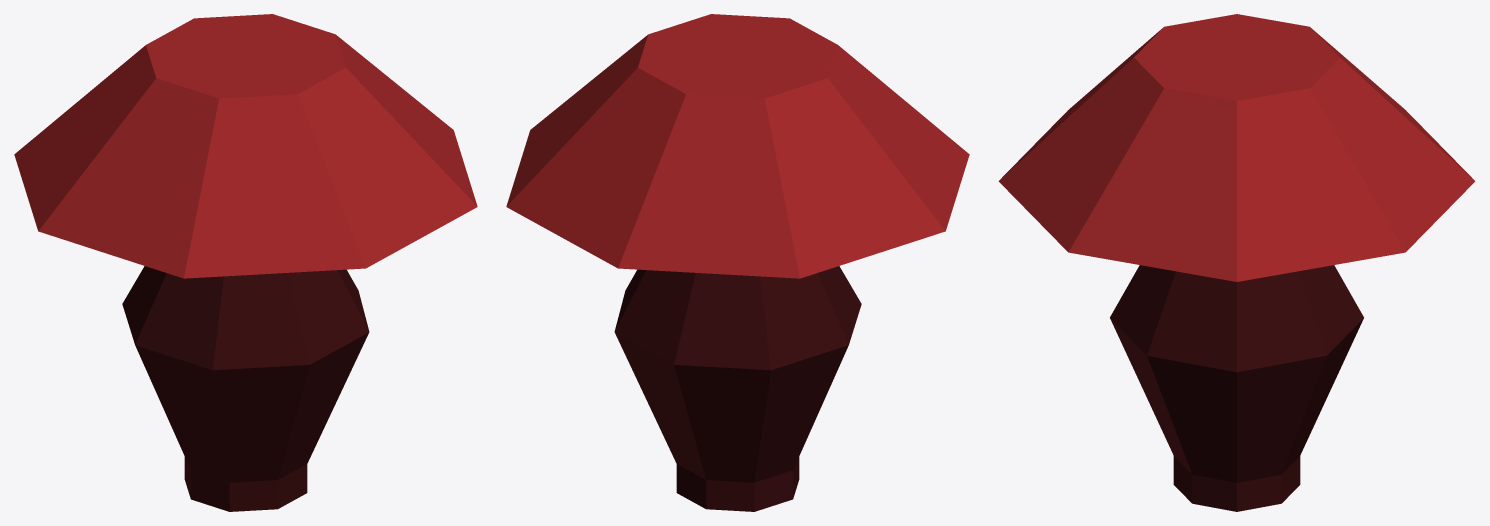
The model's file is table light.fbx.
3 renders of one model, left to right at view 1: azimuth 30°, elevation 25°; view 2: azimuth 150°, elevation 25°; view 3: azimuth 270°, elevation 25°, orthographic.
Parts seen in each view (by area): view 1: Cylinder.002; view 2: Cylinder.002; view 3: Cylinder.002.
Part boxes in pixels (left/top/right/bottom): Cylinder.002: left=14, top=14, right=477, bottom=511; Cylinder.002: left=506, top=14, right=969, bottom=511; Cylinder.002: left=998, top=14, right=1475, bottom=511.
Size of the model in its own units: 387 by 383 by 387.
